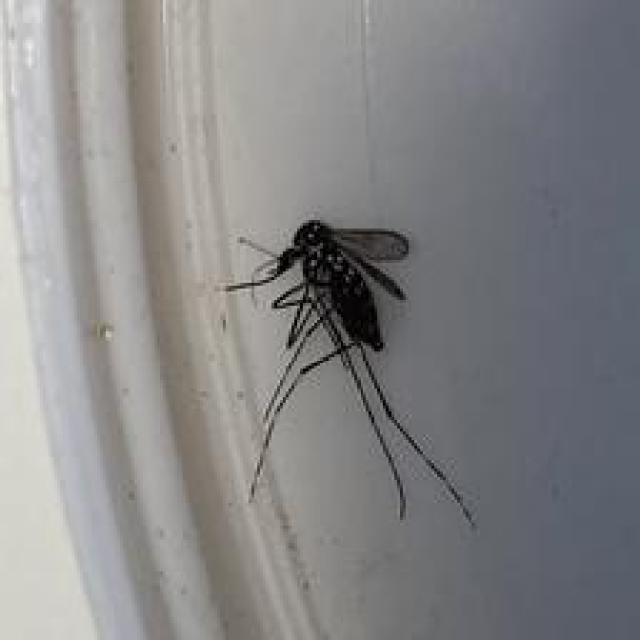Aedes albopictus: (217, 217, 477, 529)
